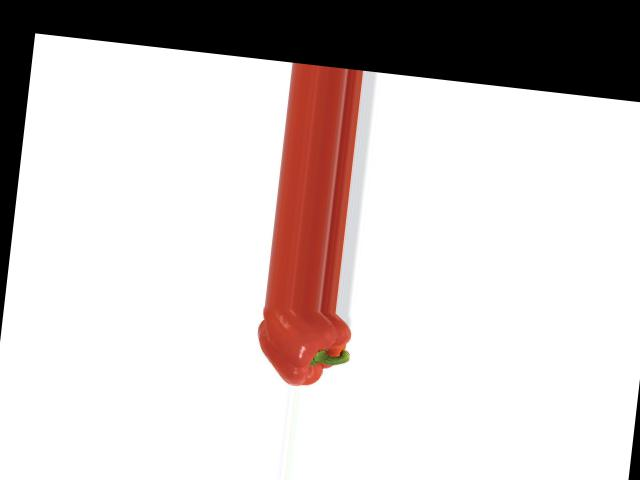bell_pepper: (241, 303, 367, 393)
